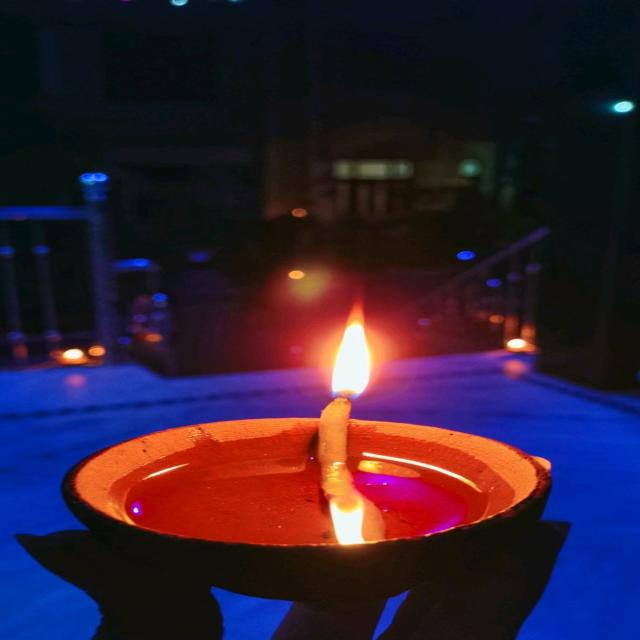fire: (329, 291, 372, 398)
